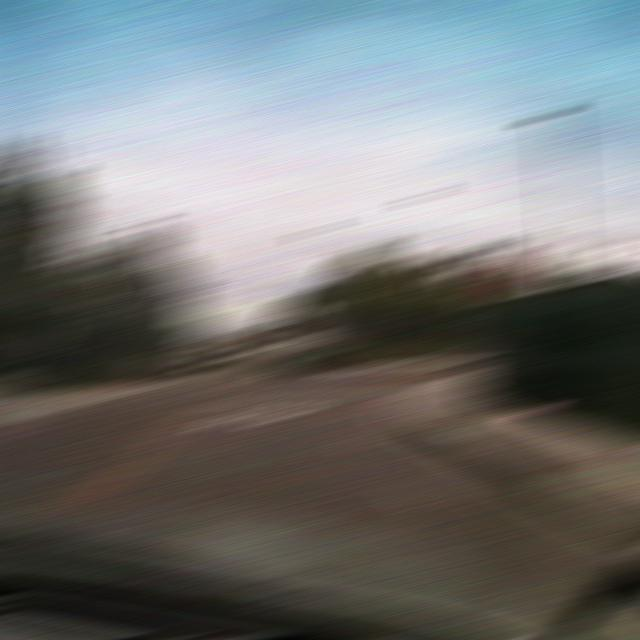stop_sign: (482, 259, 530, 292)
